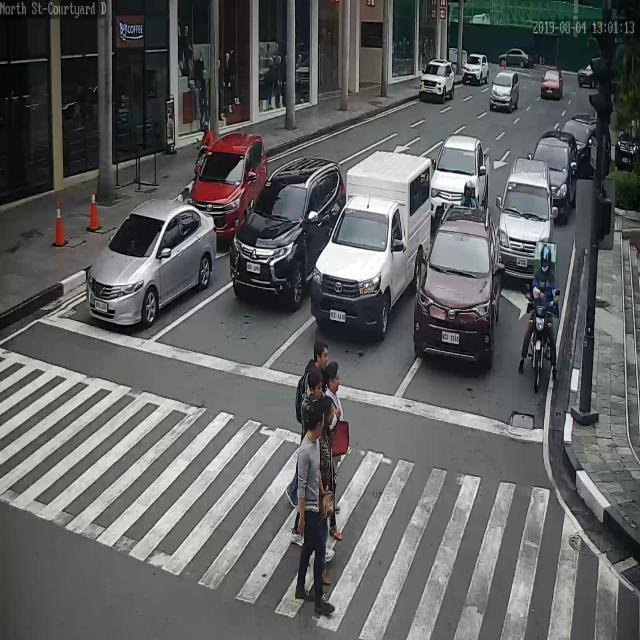car: (232, 156, 346, 312), (86, 201, 217, 331), (414, 216, 503, 371), (183, 130, 270, 244), (497, 168, 557, 279), (428, 136, 491, 226), (530, 133, 578, 213), (561, 111, 613, 175), (420, 58, 456, 104), (615, 117, 640, 174), (489, 72, 519, 112), (461, 53, 489, 86), (541, 69, 564, 101), (499, 46, 530, 66), (578, 61, 599, 88)
jeepney: (525, 240, 558, 393), (194, 119, 215, 187), (460, 178, 482, 211)
van: (311, 150, 432, 338)
